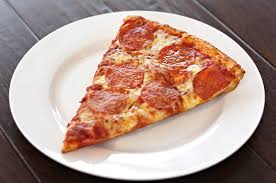pizza: (61, 11, 246, 147)
